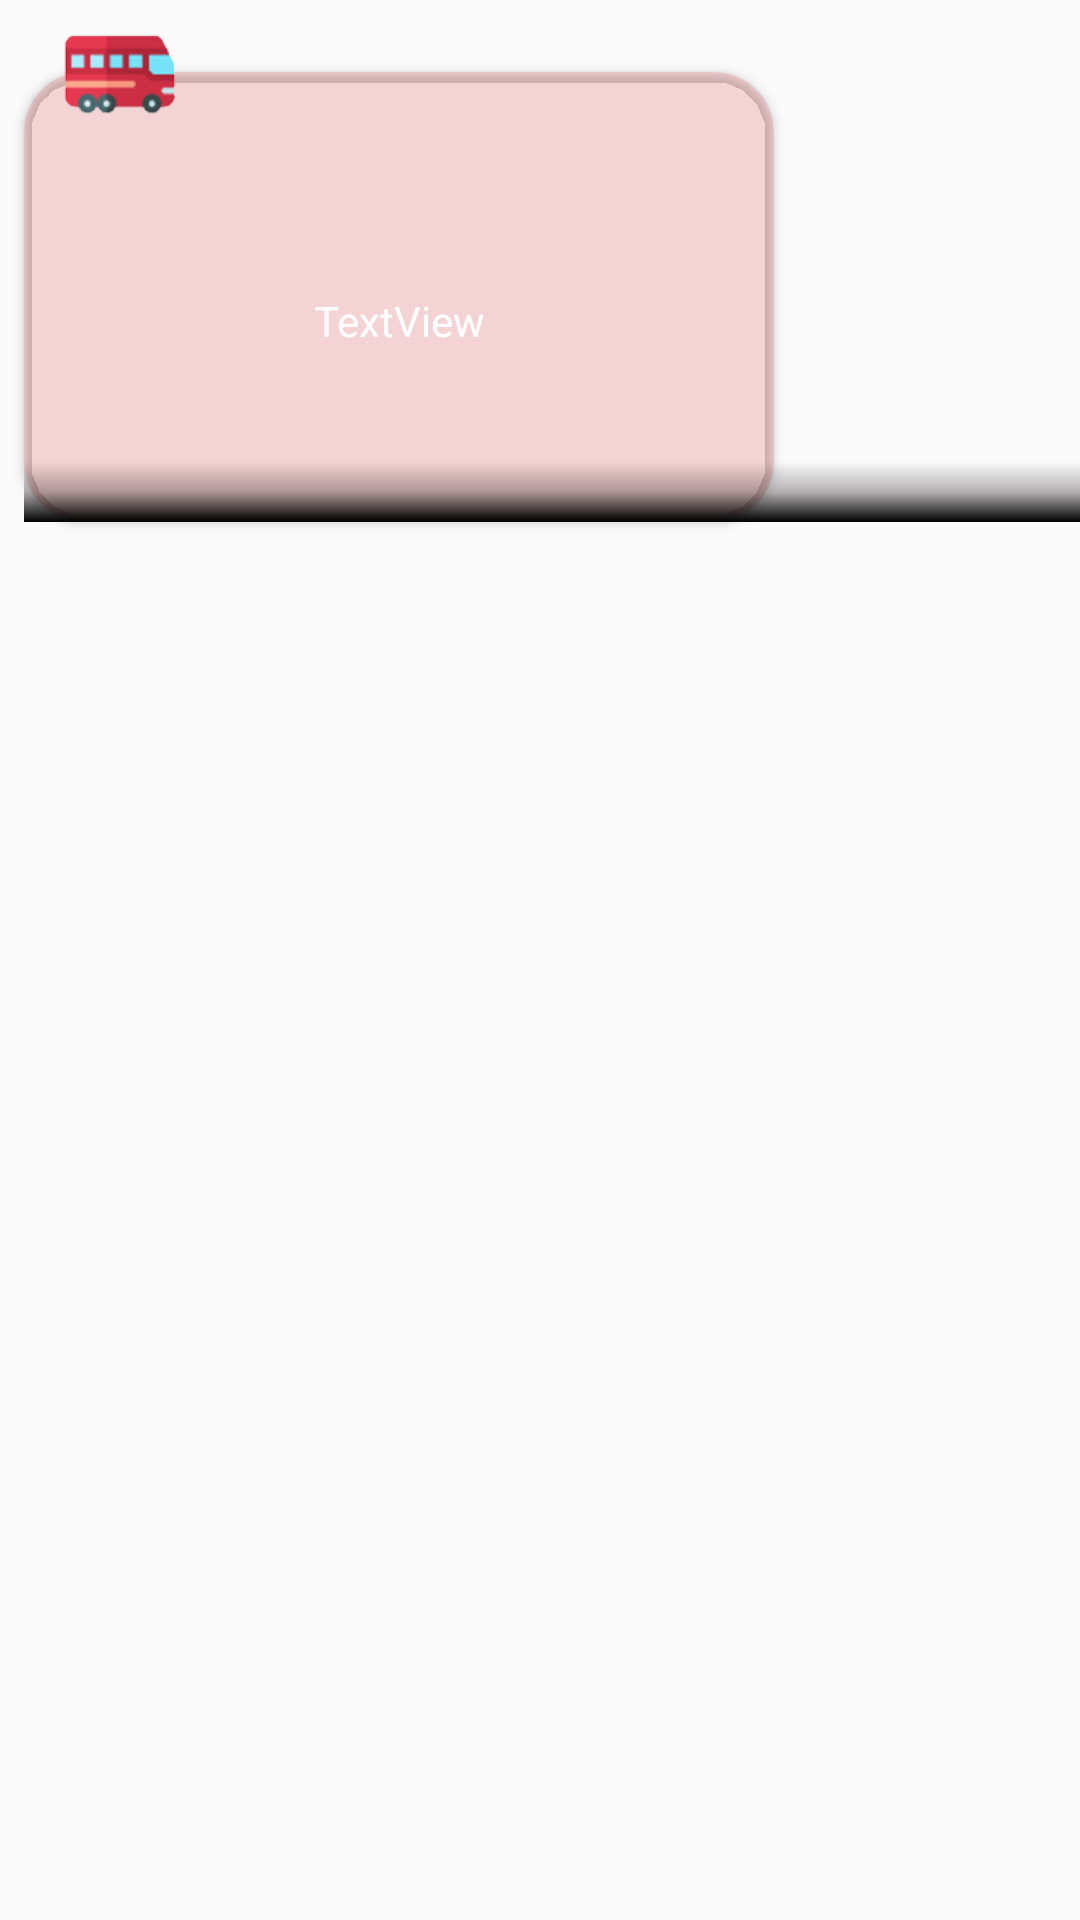

Where icons sit on this 1080px x 1920px app screen, as (x1, y1, x2, y2):
bus: (48, 0, 198, 114)
